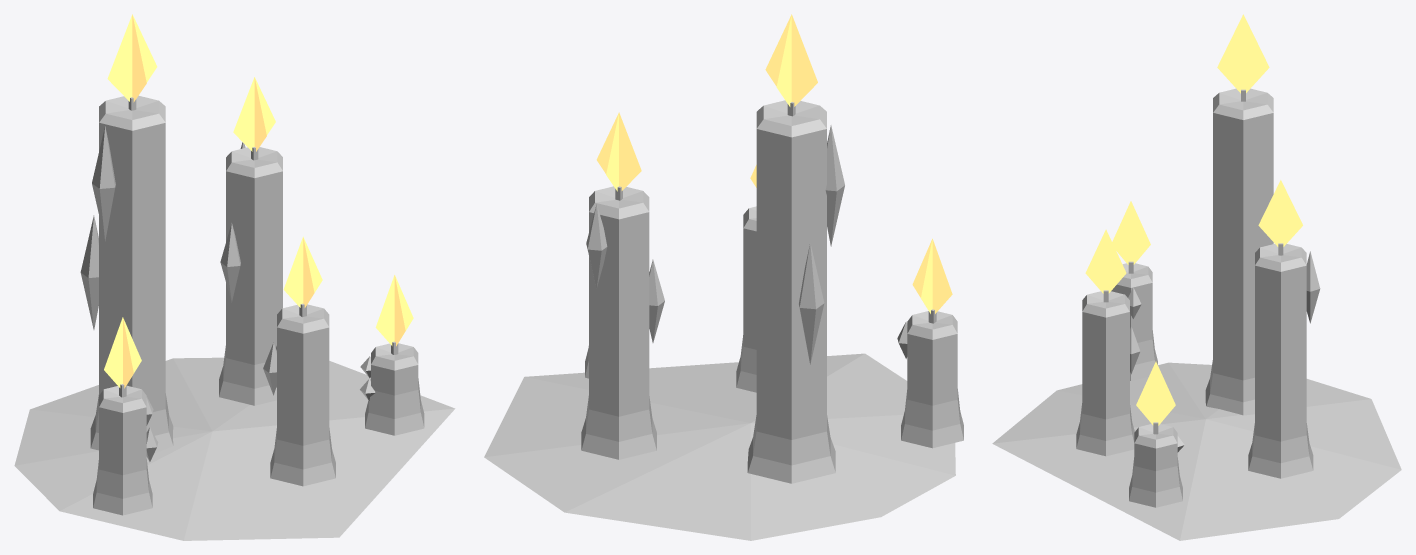
The model's file is prop.candles.glb.
3 renders of one model, left to right at view 1: azimuth 30°, elevation 25°; view 2: azimuth 150°, elevation 25°; view 3: azimuth 270°, elevation 25°, orthographic. The views are drawn at different scales.
Parts seen in each view (by area): view 1: candles; view 2: candles; view 3: candles.
Boxes of the visible parts, box(x1,y1,x2,y2) form: candles: box(14, 14, 455, 540); candles: box(484, 14, 963, 540); candles: box(992, 14, 1401, 540).
Bounding box in the file's own units: 0.338 × 0.3528 × 0.3281.
